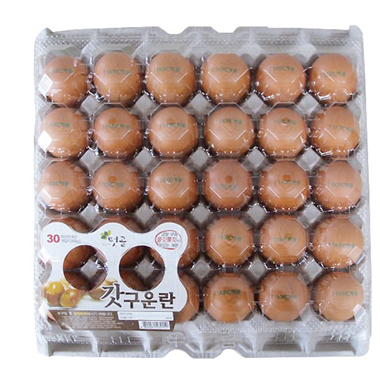egg: (39, 52, 363, 328)
